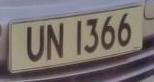1: (72, 16, 86, 60)
3: (82, 15, 102, 58)
6: (115, 11, 133, 52), (100, 13, 117, 55)
N: (45, 18, 67, 65)
U: (23, 20, 47, 67)
